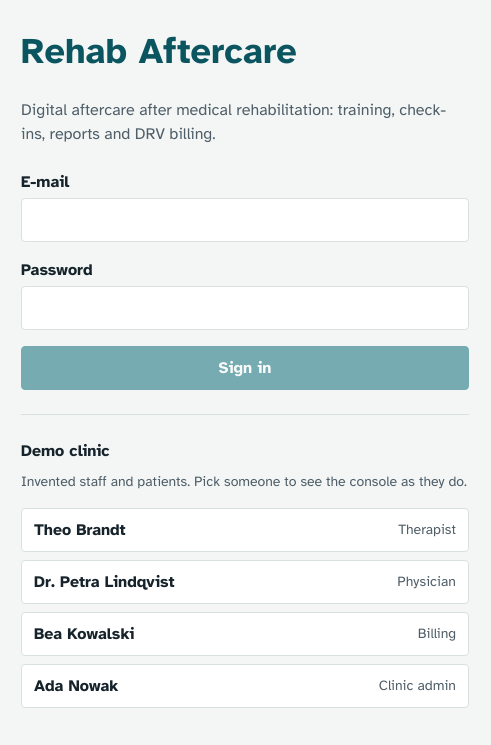
Scenario: Sign-in › says what went wrong and keeps the form
Type "theo@demo.example" into the field labelled "E-mail". click: (245, 220)
box: [21,198,469,242]
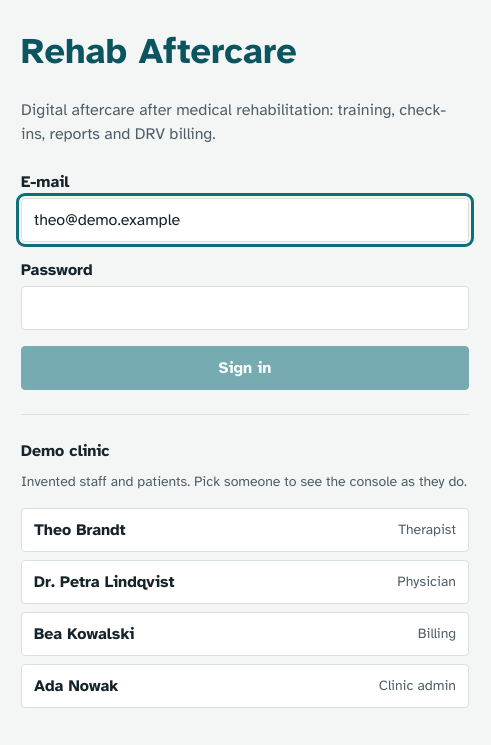
Type "nope" into the password field labelled "Password". click: (245, 308)
box: [21,286,469,330]
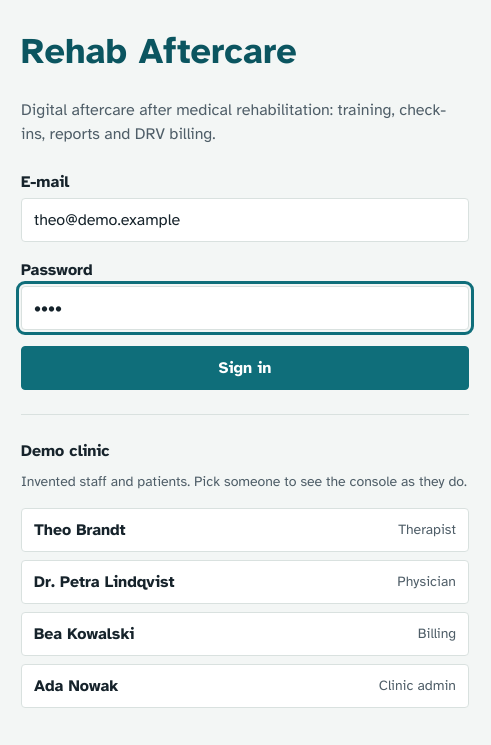
Click the button "Sign in". click: (245, 368)
box: [21,346,469,390]
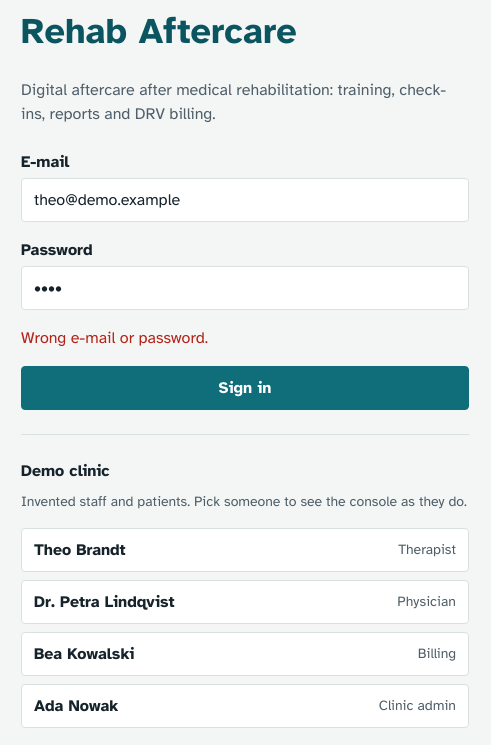
Now the message reads "Wrong e-mail or password.", box [21,328,208,348]
